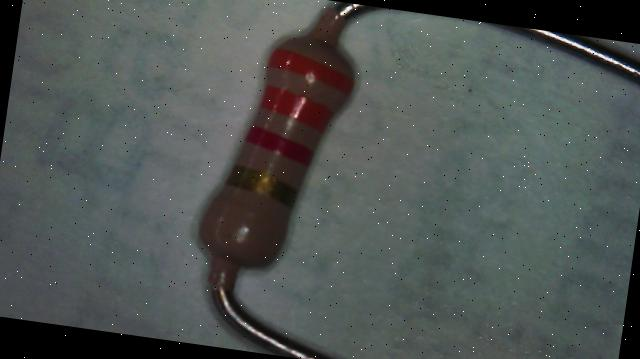gold: (225, 164, 300, 207)
orange: (266, 46, 356, 94), (258, 86, 336, 132)
red: (243, 125, 316, 166)
resistor: (167, 1, 400, 288)
